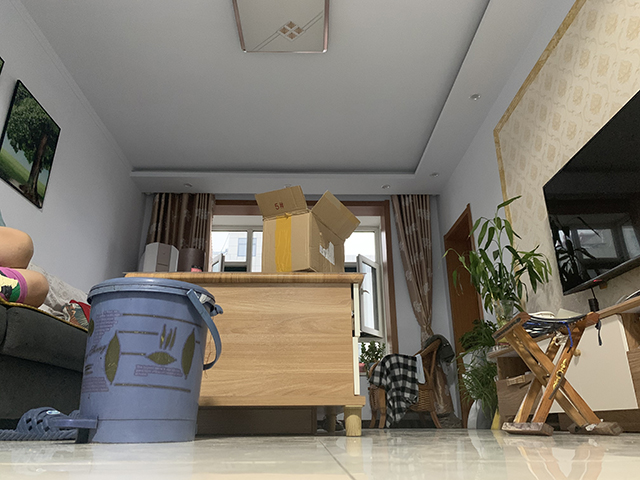cabinet: (486, 294, 640, 433)
curtain: (393, 193, 456, 422)
slippers: (1, 406, 99, 445)
stool: (490, 311, 625, 438), (365, 337, 447, 431)
trashcan: (117, 269, 367, 438), (79, 276, 224, 444)
